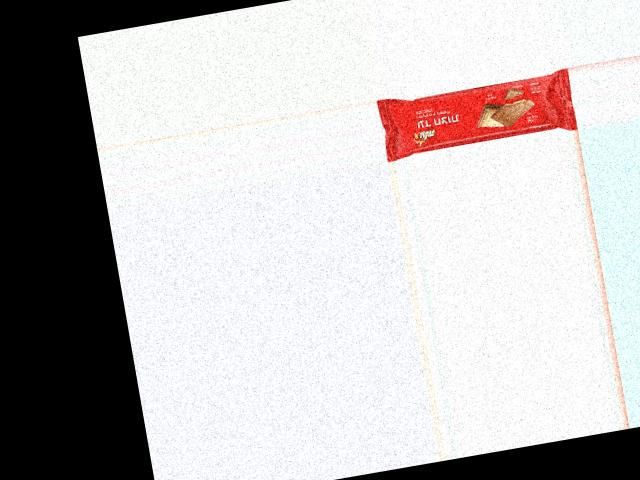chocolate: (381, 66, 576, 161)
